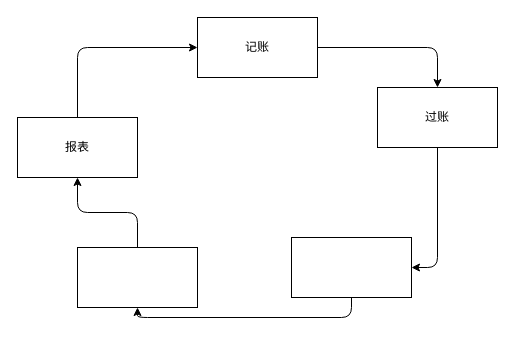
Some shapes in this 515 by 343 pixel diagram are drawn without their labels. Each missing label, with the box of its shape:
关联分录: (76, 246, 198, 308)
调整分配: (290, 236, 412, 298)
